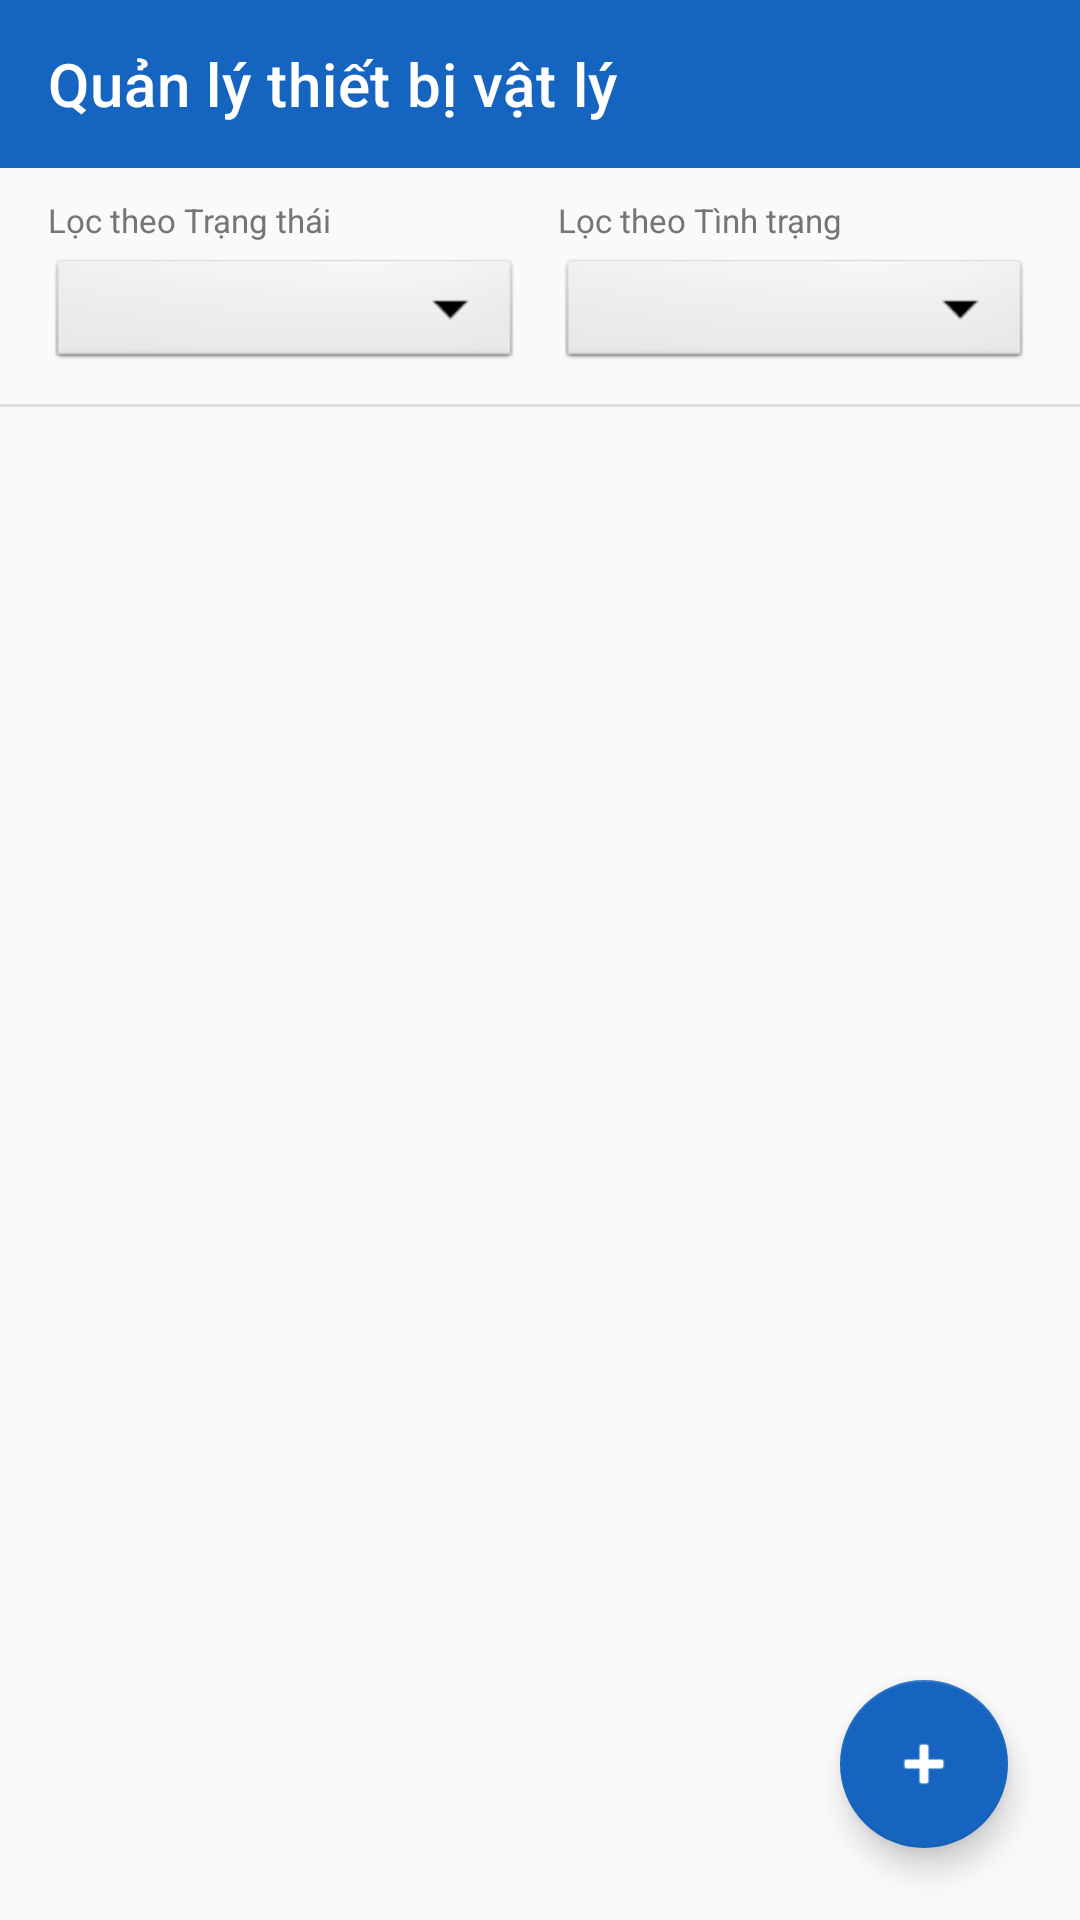

Icon bounding boxes for this 1080 × 1920 phone screenshot, format (x1, y1, x2, y2):
Thêm thiết bị vật lý: (840, 1680, 1008, 1848)
